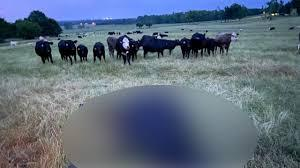cow: (215, 32, 238, 57), (35, 39, 55, 65), (57, 39, 77, 65), (142, 40, 170, 58), (119, 34, 133, 65), (191, 32, 207, 58), (92, 42, 106, 64), (179, 37, 192, 59), (166, 39, 182, 56), (207, 38, 222, 56), (107, 37, 118, 60), (137, 35, 156, 47), (76, 44, 88, 61), (131, 40, 140, 60)
